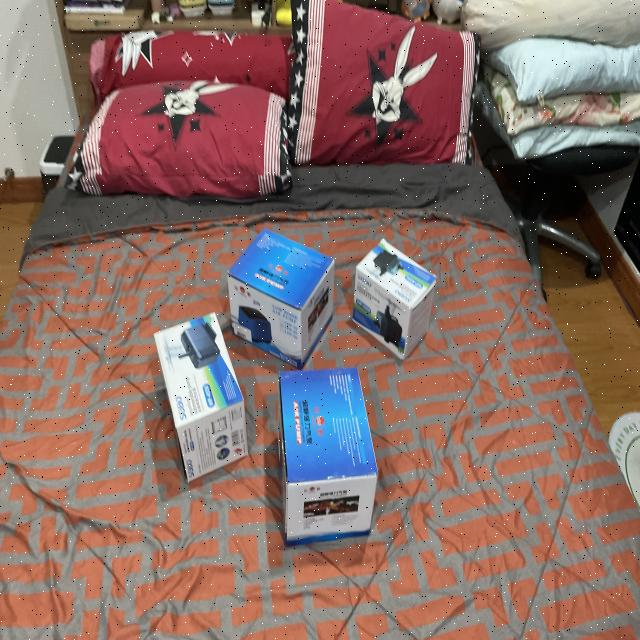SOBO_WP_4200: (148, 310, 254, 483), (350, 240, 443, 366)
YAMANO_LPP_20: (270, 363, 390, 557), (216, 224, 344, 372)
